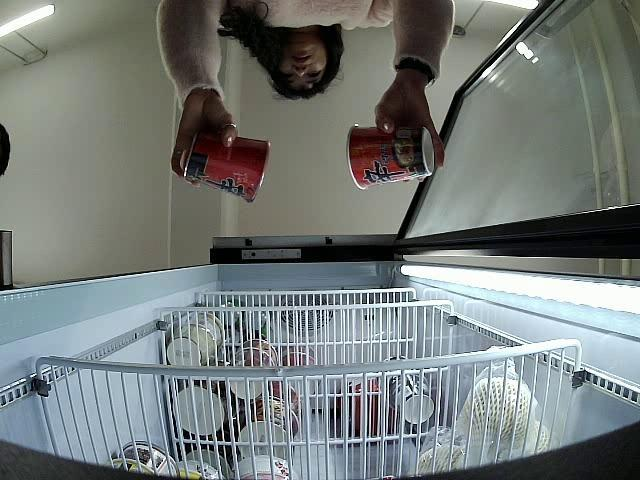02_shinRamen_S: (182, 135, 274, 203), (344, 124, 434, 190)
